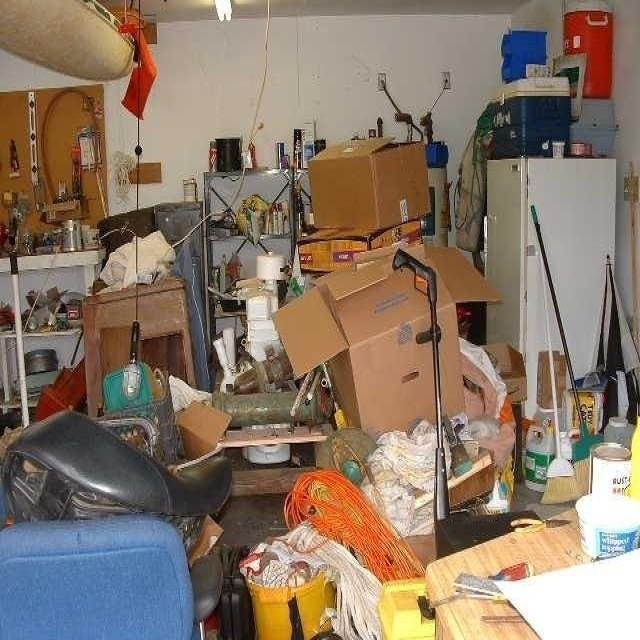Cable: (120, 4, 154, 316), (227, 3, 272, 210)
Plastics: (473, 0, 640, 152)
can: (578, 436, 640, 493)
